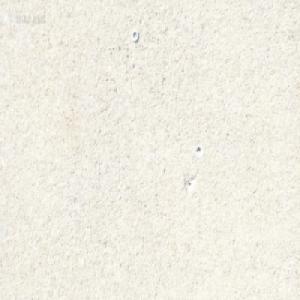Washer: (131, 28, 138, 41)
